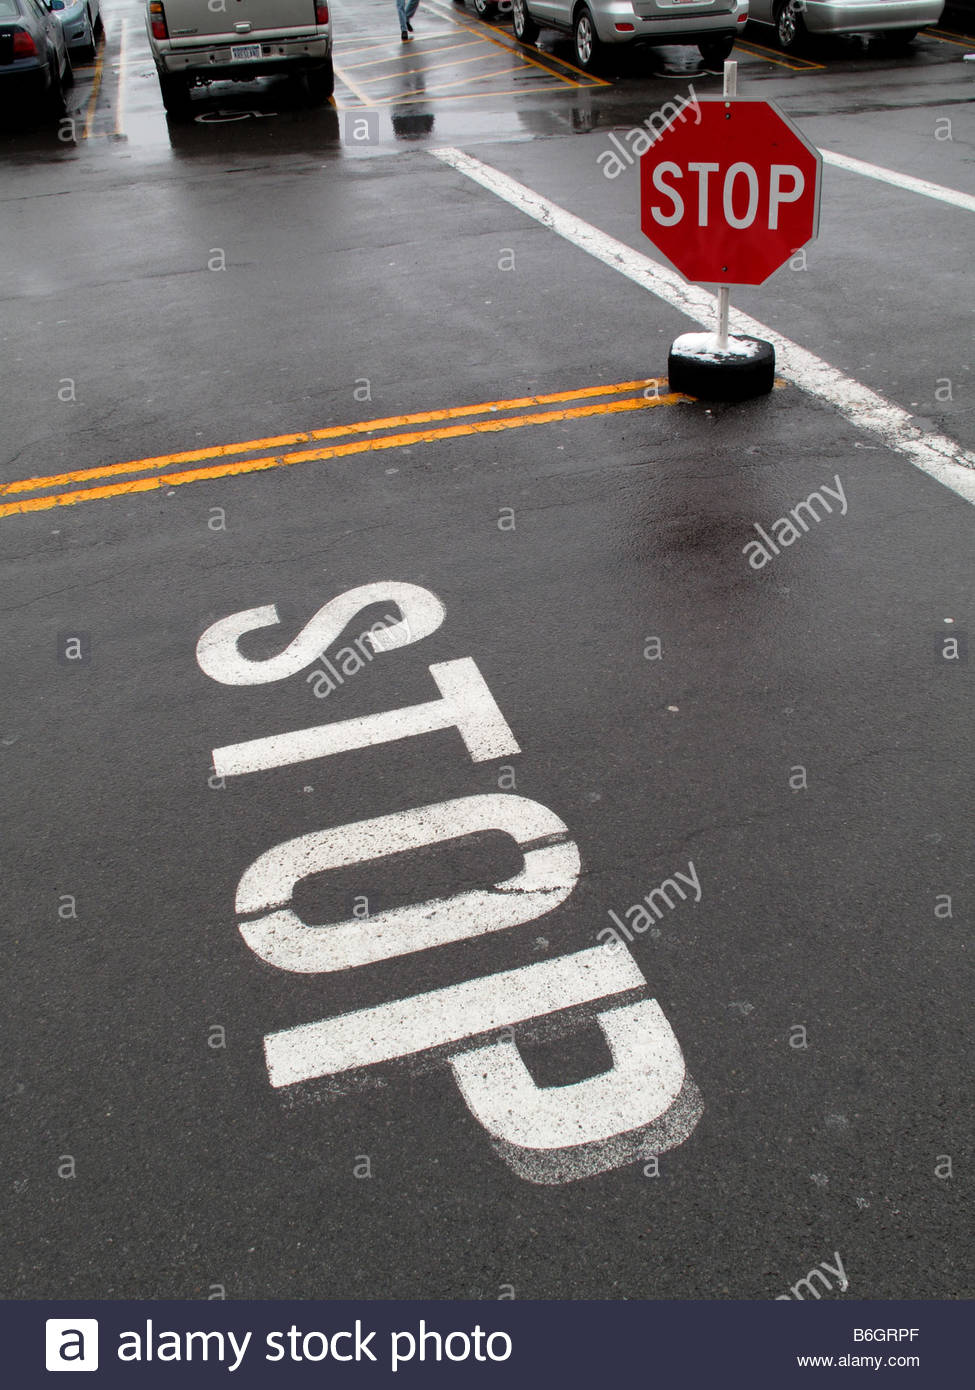stopsign: (636, 97, 820, 284)
